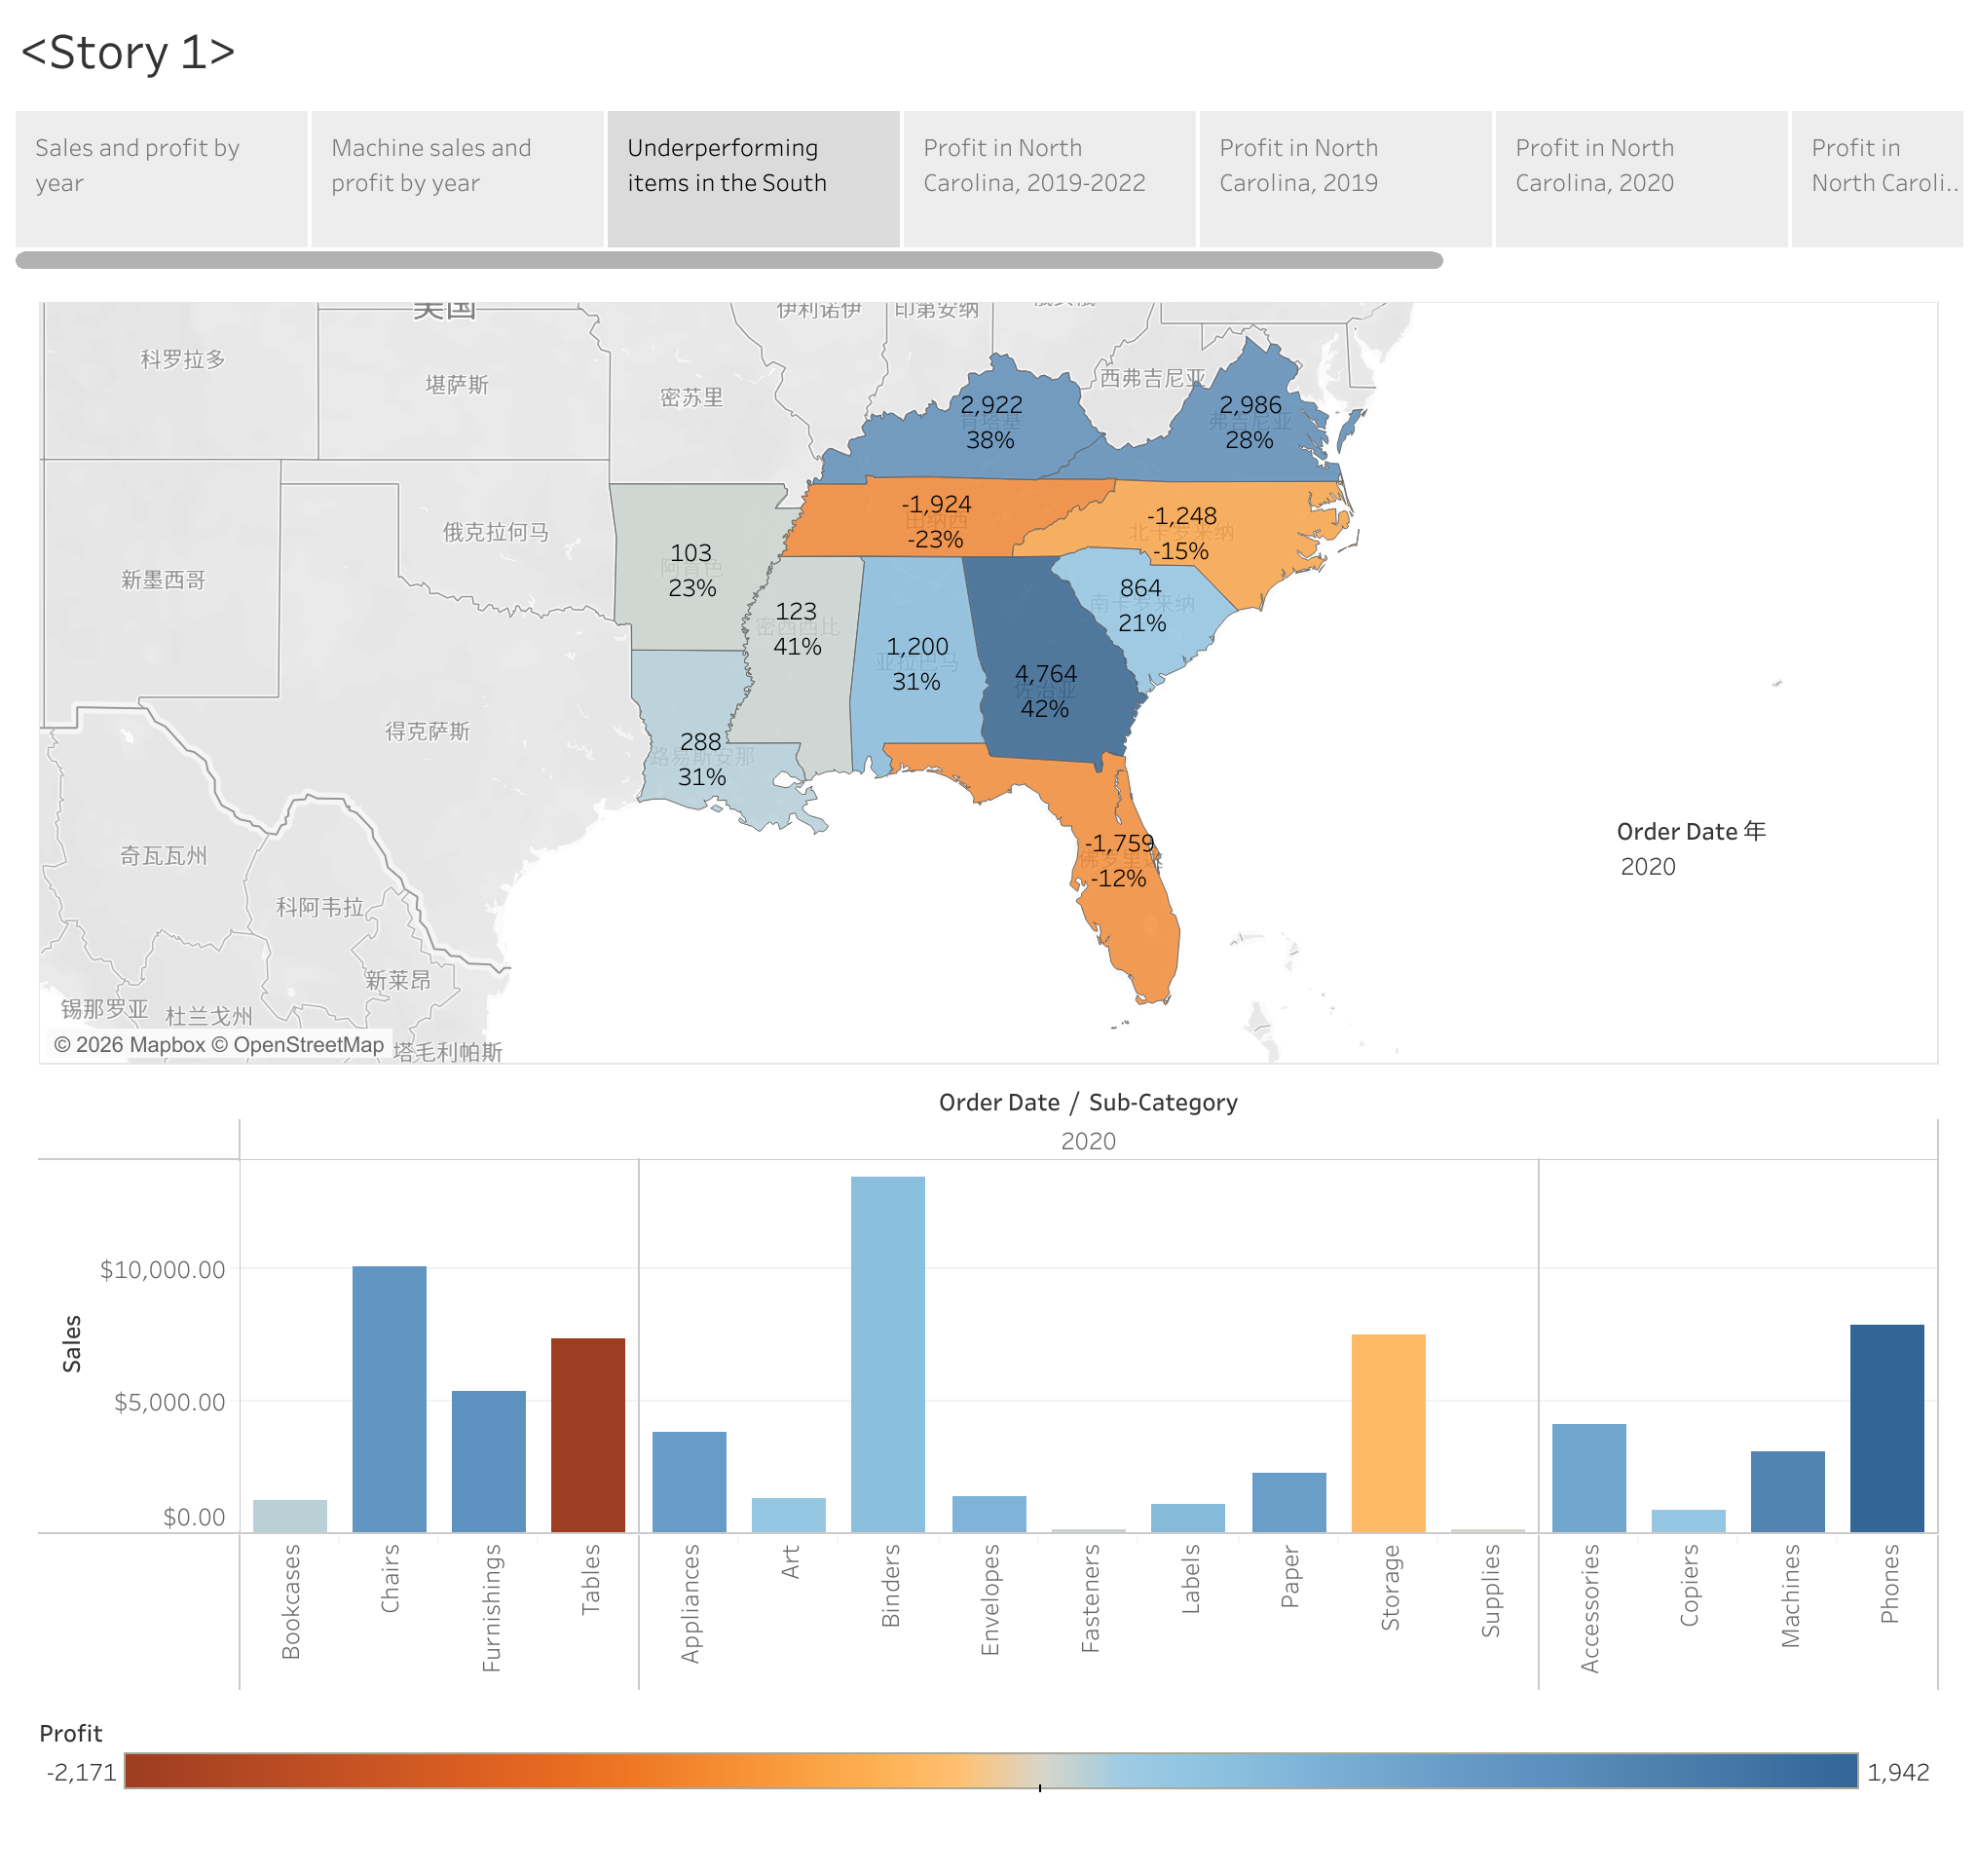

The page's visual inventory and layout, read from the dashboard file:
{"tool":"tableau","page":{"name":"Regional Sales and Profit","canvas":[1000,814],"ordinal":0},"visuals":[{"type":"worksheet","title":"Profit Map","mark":"Automatic","box":[8,8,984,399.8]},{"type":"filter","title":"Profit Map","param":"[Sample - Superstore].[yr:Order Date:ok]","box":[822,272.7,168,60]},{"type":"worksheet","title":"Sales in the South","mark":"Automatic","rows":["Region","Sales"],"cols":["Order Date","Category","Sub-Category"],"box":[8,407.8,984,321.7]},{"type":"legend","title":"Sales in the South","param":"[Sample - Superstore].[sum:Profit:qk]","box":[8,729.5,984,76.5]}]}

Visuals, with their boxes on the page's 1000x814 design canvas (x1, y1, x2, y2). These are canvas units, not pixel positions in the 1977x1876 screenshot, which may show the page scaled, cropped or inside an application window:
"Profit Map" worksheet: (8, 8, 992, 408)
"Profit Map" filter: (822, 273, 990, 333)
"Sales in the South" worksheet: (8, 408, 992, 730)
"Sales in the South" legend: (8, 730, 992, 806)
